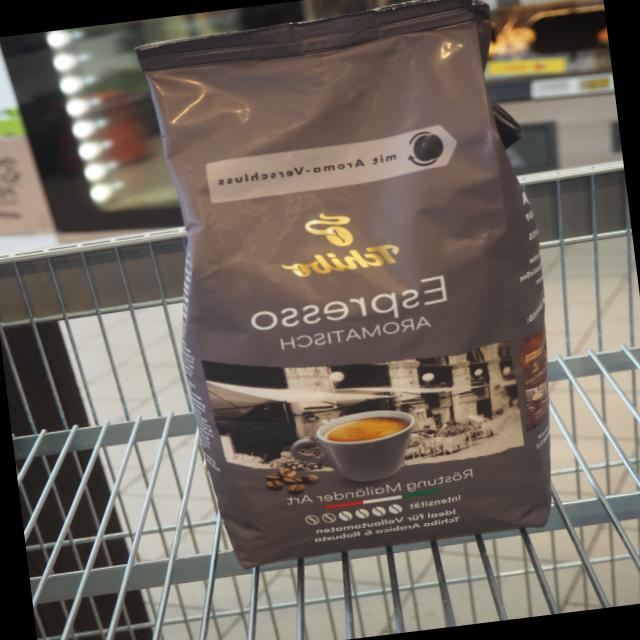Espresso Aromatisch: (123, 0, 574, 590)
